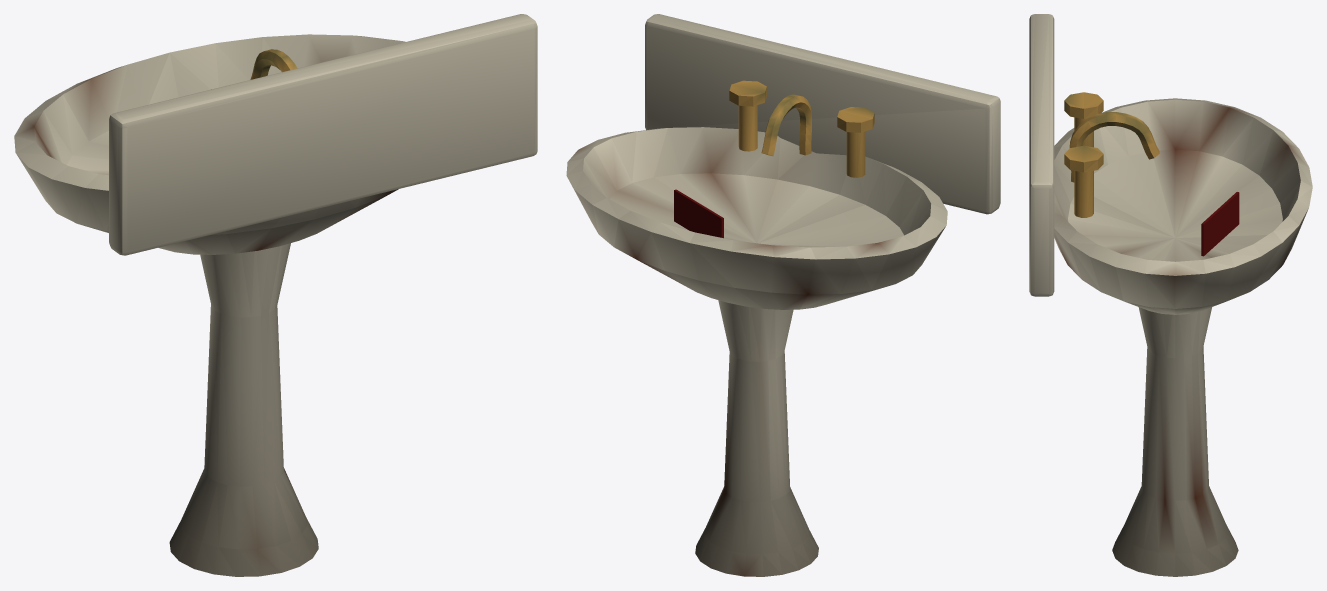
File: BathroomSink.glb
3 views of the same model, side by side, from view 1: azimuth 30°, elevation 25°; view 2: azimuth 150°, elevation 25°; view 3: azimuth 270°, elevation 25° (orthographic). The views are drawn at different scales.
Visible parts, largest first — view 1: BathroomSink_enamel, BathroomSink_brass; view 2: BathroomSink_enamel, BathroomSink_brass, BathroomSink_blood; view 3: BathroomSink_enamel, BathroomSink_brass, BathroomSink_blood.
Part boxes in pixels (box(x1,y1,x2,y2)): BathroomSink_enamel: box(14, 14, 537, 576); BathroomSink_brass: box(250, 49, 297, 79); BathroomSink_enamel: box(566, 14, 1000, 576); BathroomSink_brass: box(729, 80, 874, 177); BathroomSink_blood: box(674, 189, 723, 238); BathroomSink_enamel: box(1029, 14, 1312, 576); BathroomSink_brass: box(1064, 92, 1159, 217); BathroomSink_blood: box(1201, 192, 1239, 256).
Size of the model in its own units: 2.99 by 3.55 by 2.02.
